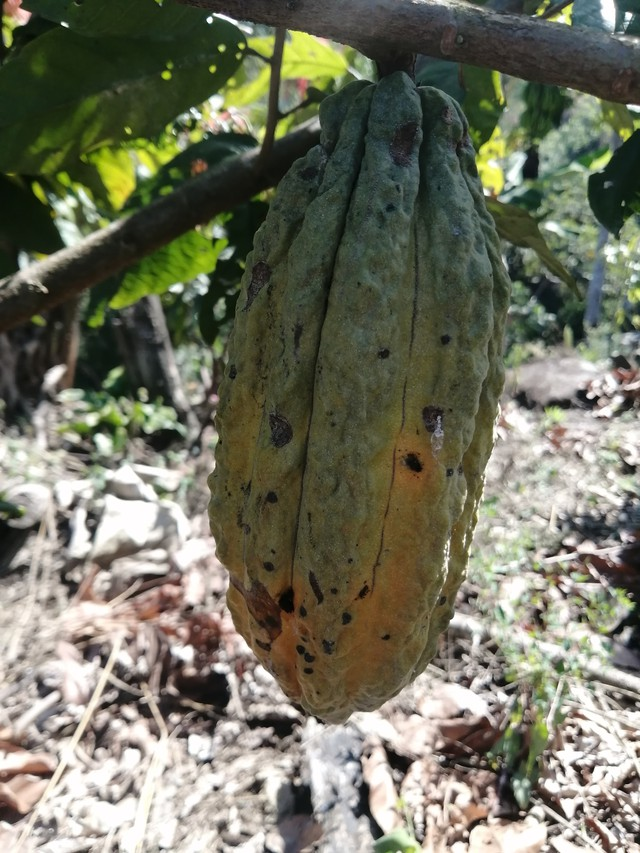carmenta foraseminis: (210, 67, 511, 732)
